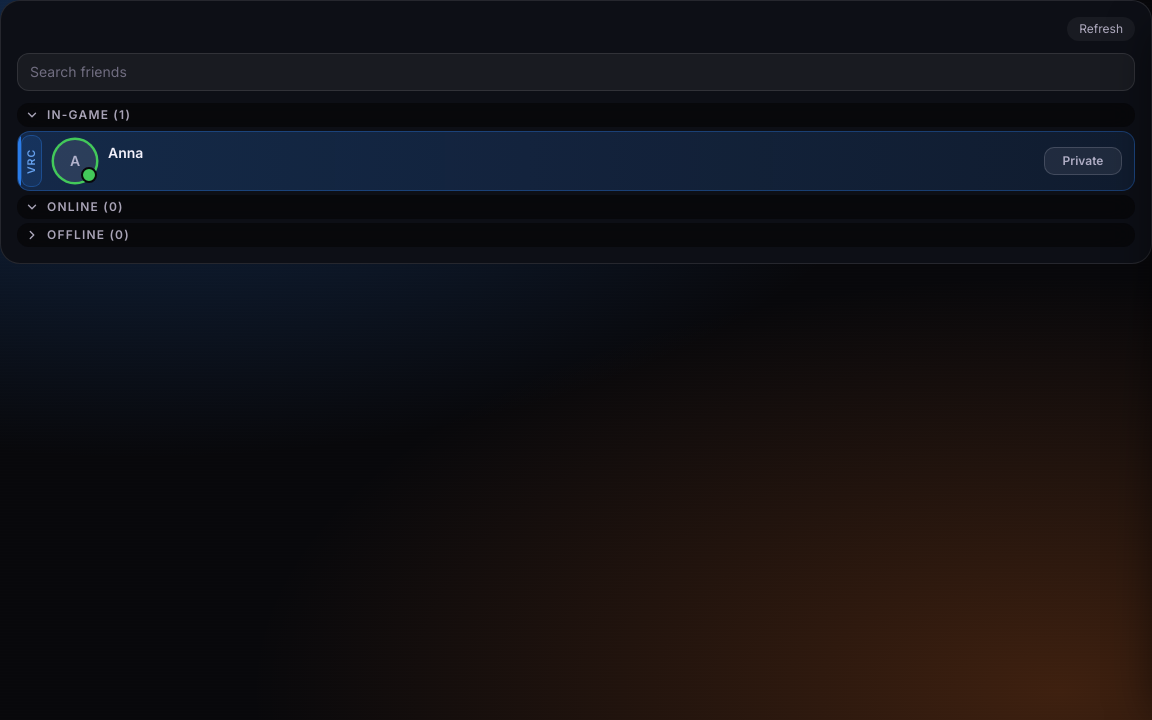
Test: FriendsList presence sections — interaction (VRX-67) › clicking an expanded section collapses it and hides its rows again
Click the button "In-Game (1)". click: (89, 114)
box: x1=17 y1=103 x2=1135 y2=127
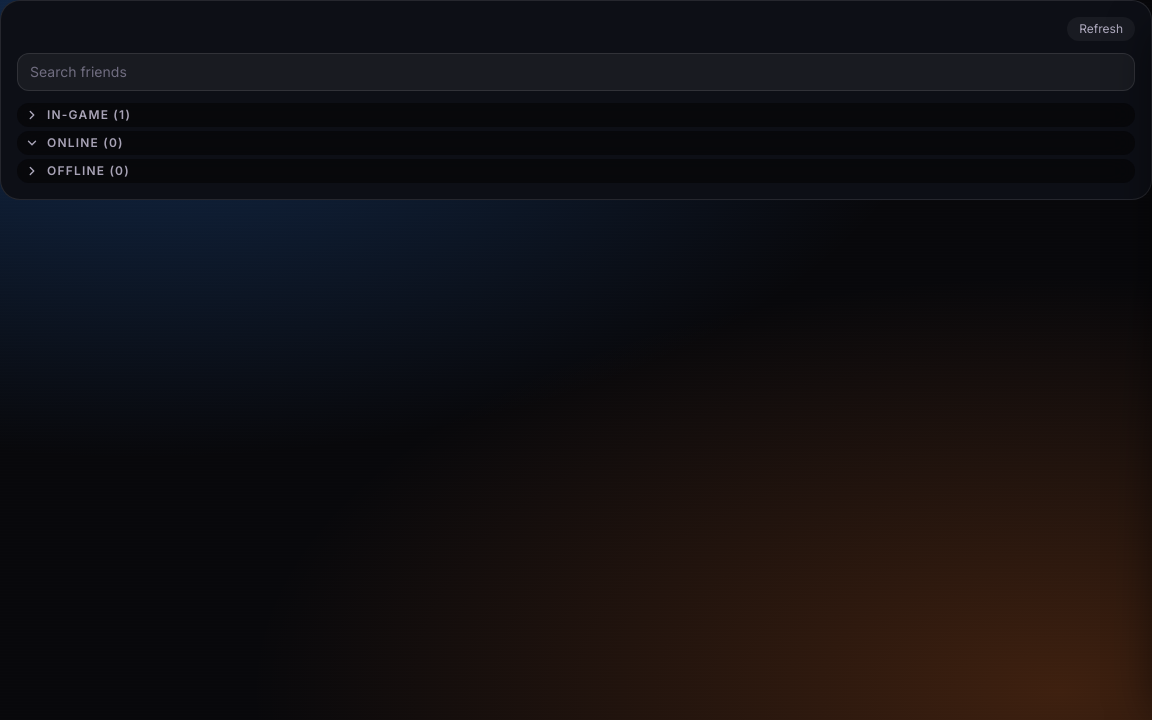
Result: the button "In-Game (1)" is collapsed at x1=17 y1=103 x2=1135 y2=127
Result: the text "Anna" is gone
